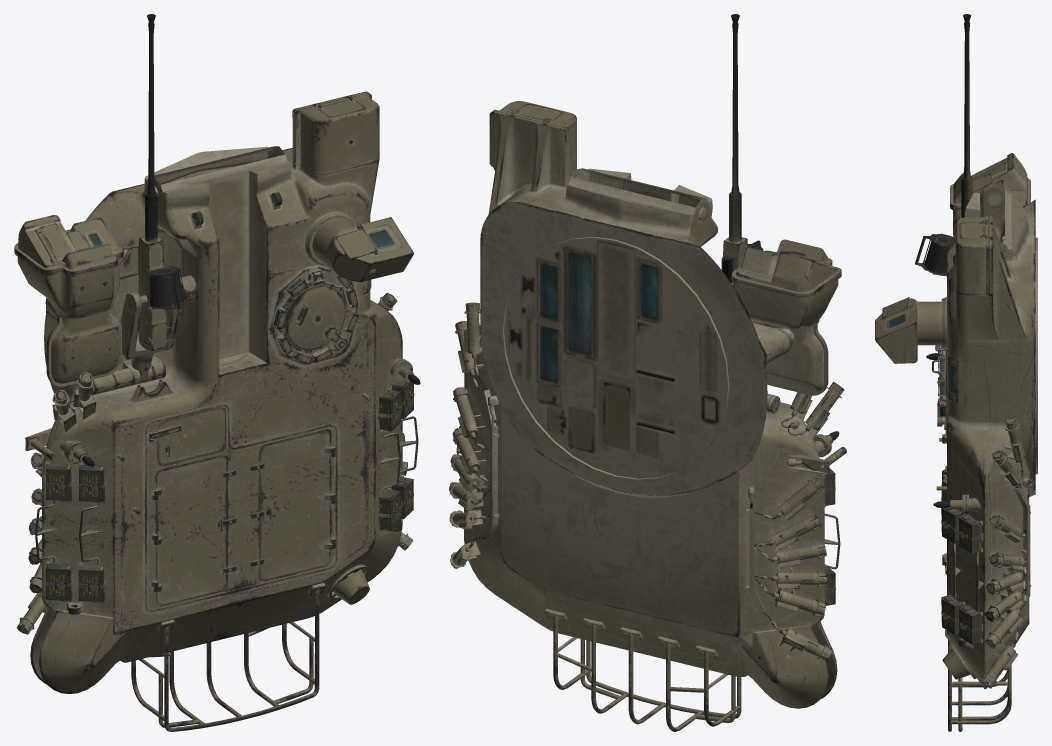
The model's file is Turret_01.glb.
3 renders of one model, left to right at view 1: azimuth 30°, elevation 25°; view 2: azimuth 150°, elevation 25°; view 3: azimuth 270°, elevation 25°, orthographic. The views are drawn at different scales.
Visible parts, largest first — view 1: set_0_group_0; view 2: set_0_group_0; view 3: set_0_group_0.
Boxes of the visible parts, x1,y1,x2,y2 form: set_0_group_0: [14, 14, 420, 731]; set_0_group_0: [449, 14, 846, 731]; set_0_group_0: [875, 14, 1037, 731].
Bounding box in the file's own units: 3.17 × 5.6 × 1.26.
Materials: 1 (1 with a texture image).
